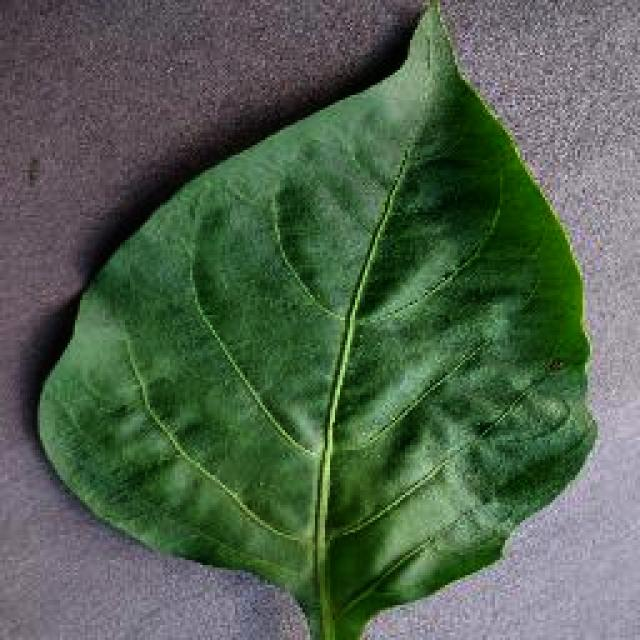Leaf: (35, 15, 618, 625)
